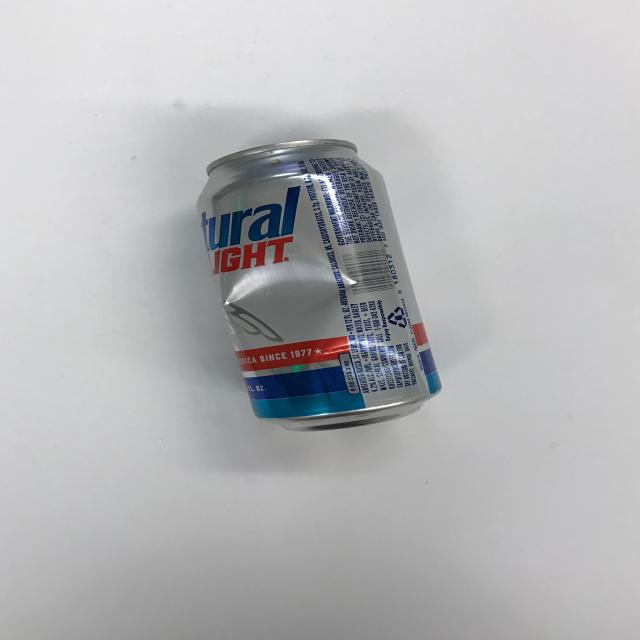metal: (195, 137, 443, 432)
